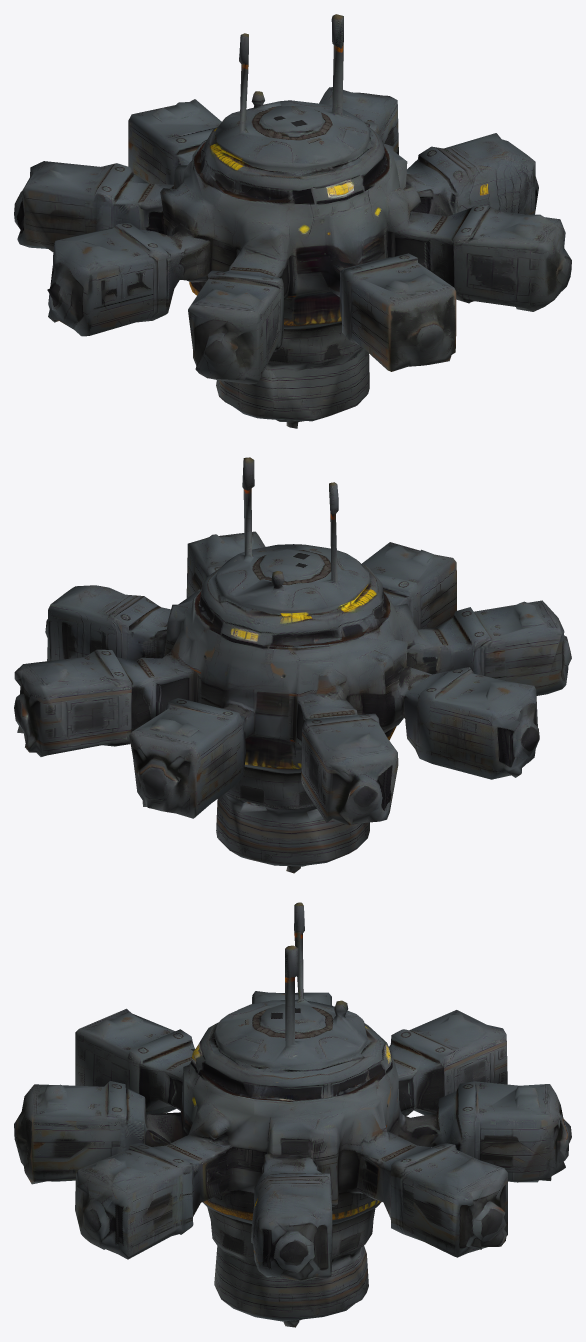
The picture shows the model from 3 angles, top to bottom: view 1: azimuth 30°, elevation 25°; view 2: azimuth 150°, elevation 25°; view 3: azimuth 270°, elevation 25°; orthographic projection.
Visible parts, largest first — view 1: Mesh_0; view 2: Mesh_0; view 3: Mesh_0.
Part boxes in pixels (bbox=[...]): Mesh_0: bbox=[14, 14, 571, 428]; Mesh_0: bbox=[14, 457, 571, 873]; Mesh_0: bbox=[14, 902, 571, 1327].
Size of the model in its own units: 1.92 by 1.53 by 1.92.
Materials: 1 (1 with a texture image).
